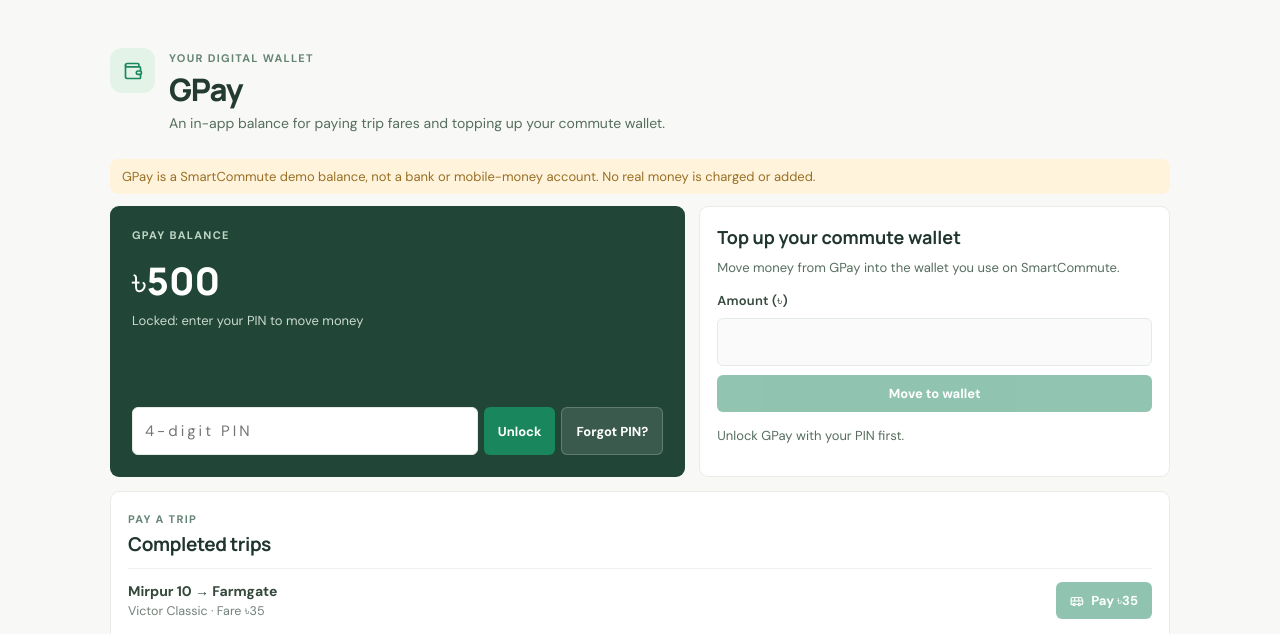
Scenario: GpayPage › keeps money moves locked until the right PIN is entered
Expected: the button "Move to wallet" is disabled, [717, 375, 1152, 412]
In the password field named "GPay PIN": point(305, 432) [132, 408, 478, 456], type "9999"
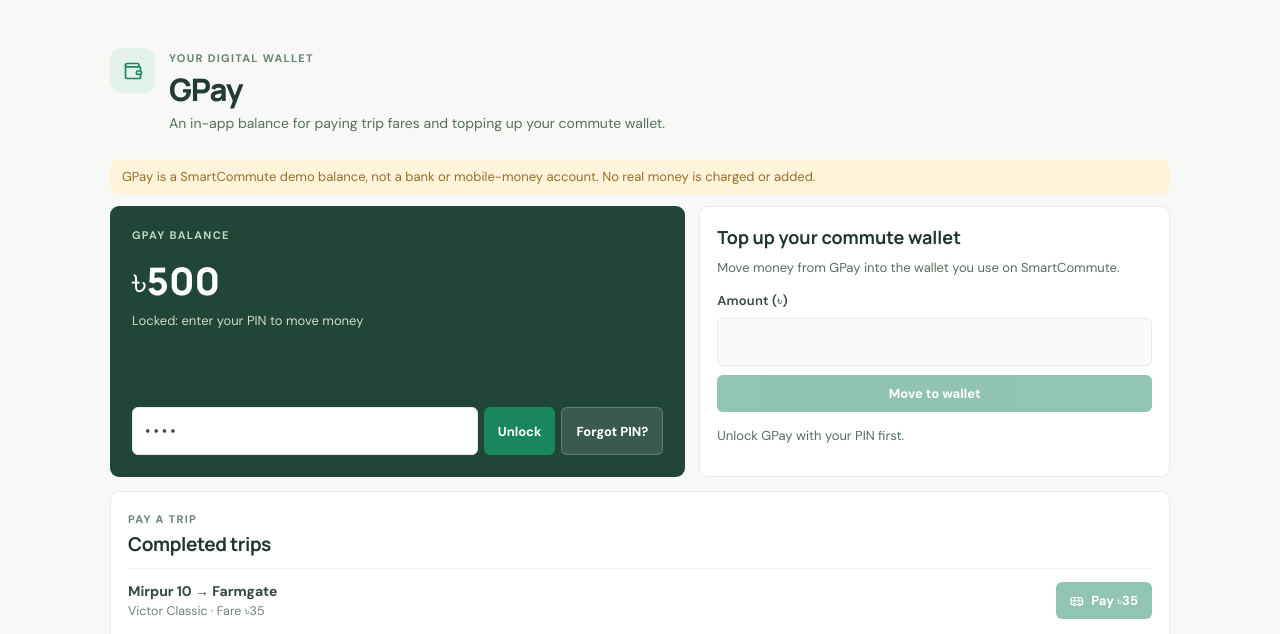
Click the button "Unlock": point(520, 432) [484, 408, 556, 456]
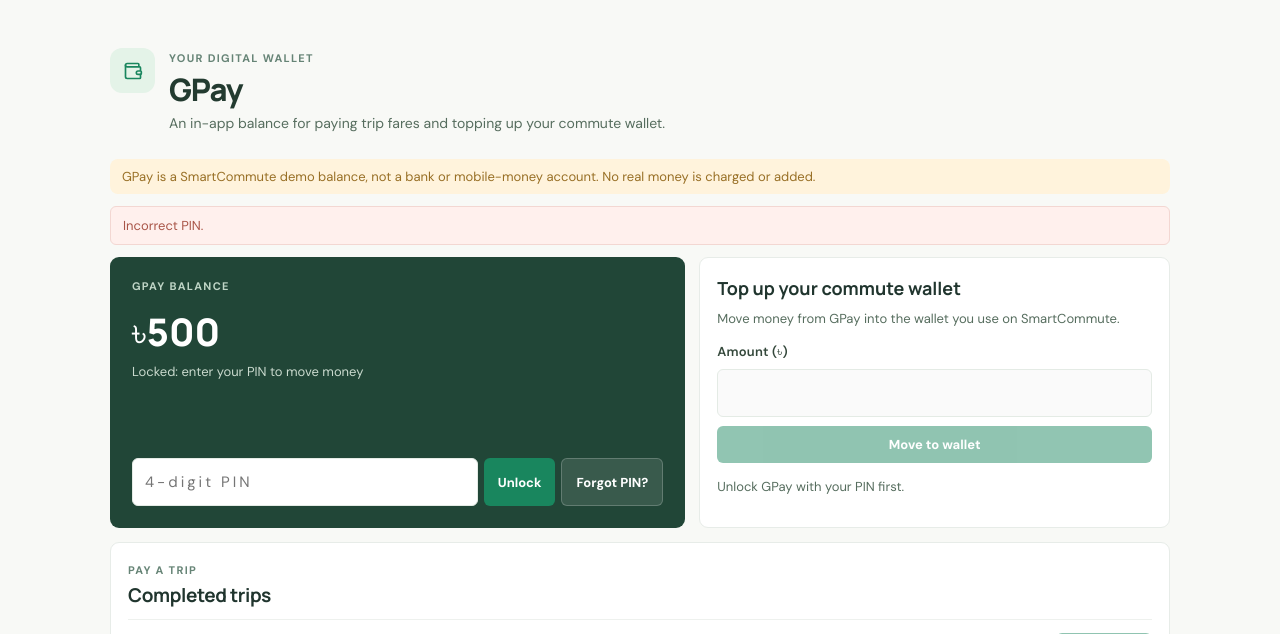
Now the text "Incorrect PIN." is shown, box [110, 206, 1170, 245]
In the password field named "GPay PIN": point(305, 482) [132, 458, 478, 506], type "1234"
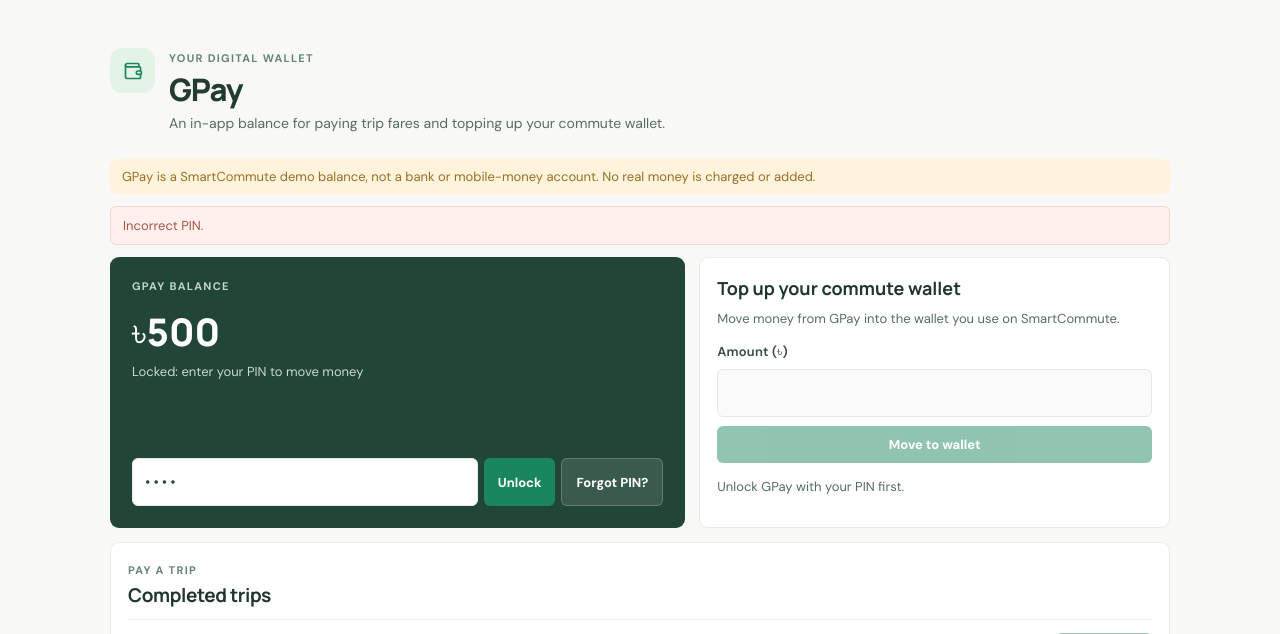
Click the button "Unlock": point(520, 482) [484, 458, 556, 506]
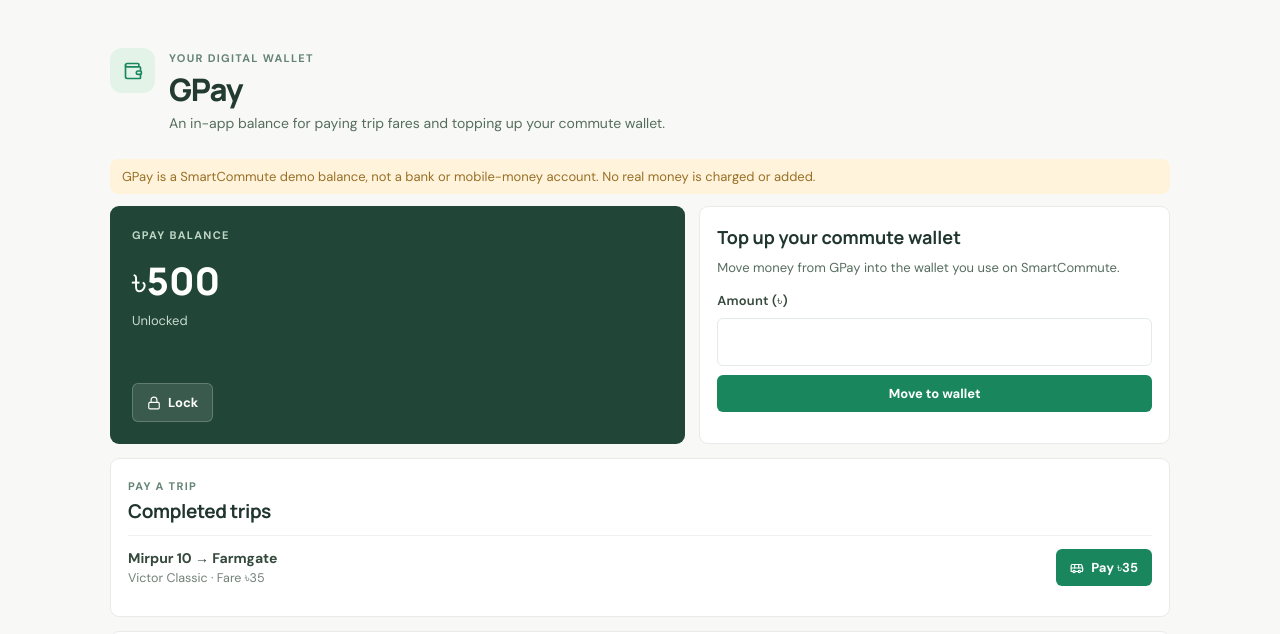
Now the button "Move to wallet" is enabled, box [717, 375, 1152, 412]
Now the text "Unlocked" is shown, box [132, 312, 188, 329]
